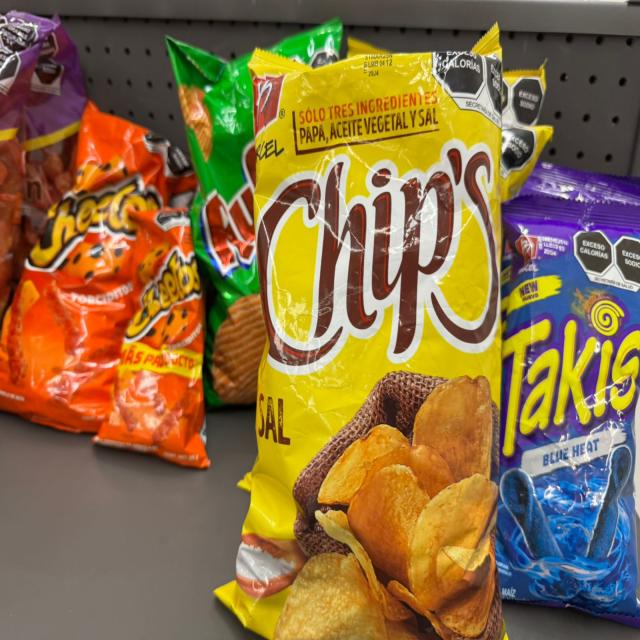CHEETOS TORCIDITOS 240GR: (96, 212, 208, 476)
Cheetos grandes: (0, 103, 186, 436)
Papas Chips Barcel 170 gr bolsa con sal: (212, 27, 508, 639), (501, 117, 549, 201), (502, 68, 543, 121)
RUFFLES QUESO 185GR: (171, 37, 268, 412), (273, 19, 345, 60)
Takis Blue 75g: (493, 198, 640, 622), (517, 160, 640, 209)
chicharrones de cerdo intenso: (8, 14, 89, 291), (0, 10, 47, 317)
